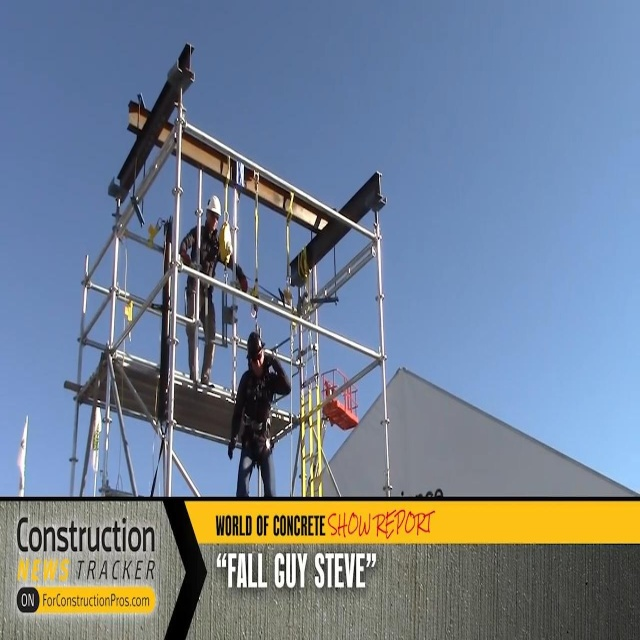Arnes_seguridad: (237, 369, 277, 461), (189, 223, 219, 315)
